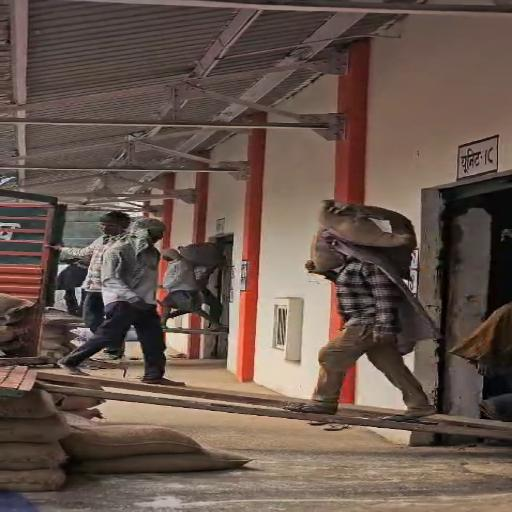bag: (302, 196, 424, 275)
